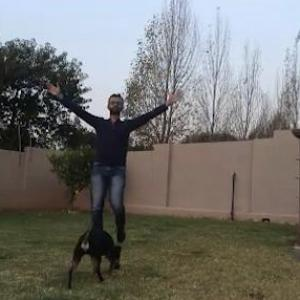takeoff: (36, 63, 186, 249)
